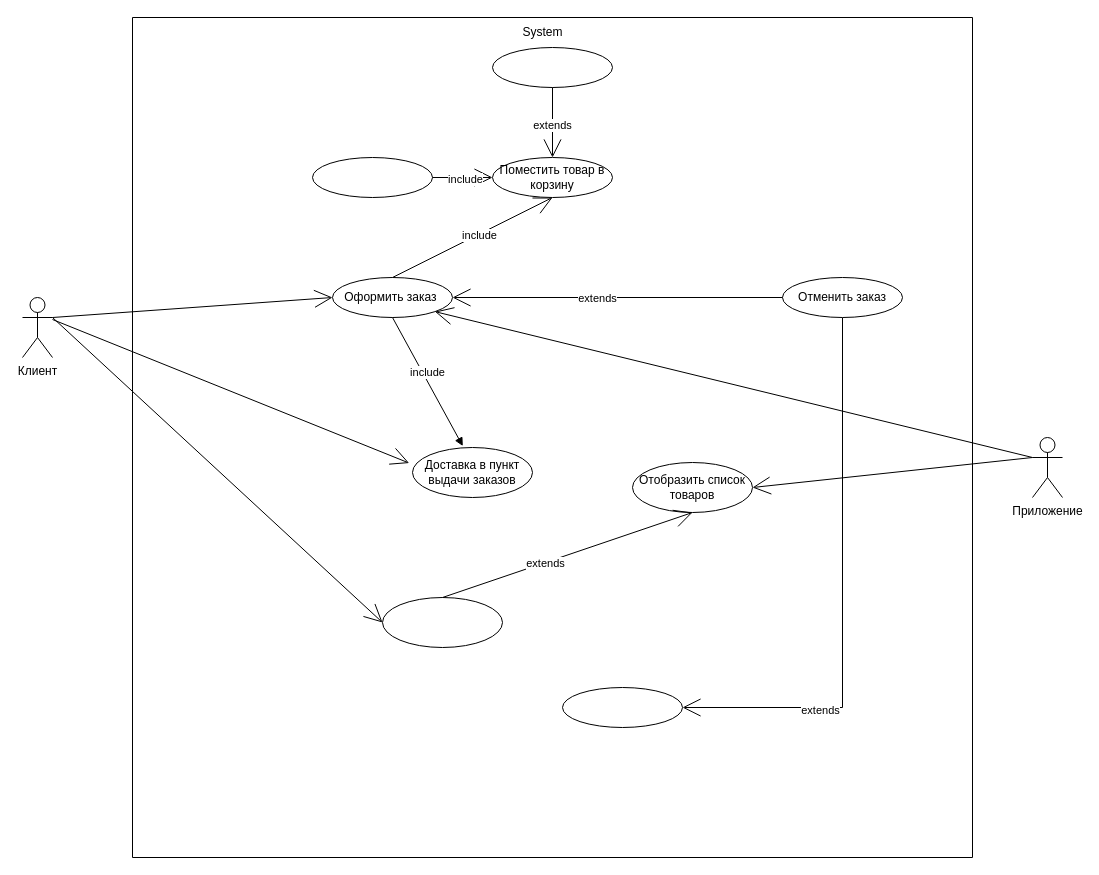
Some shapes in this 1099 by 875 pixel diagram are drawn without their labels. The box of each missing label's shape, as (x1, y1, x2, y2) in pixels:
Выбрать товар: (312, 156, 432, 198)
Закрыть заказ: (562, 686, 682, 728)
Обновить список товаров: (382, 596, 502, 648)
Удалить товар из корзины: (492, 46, 612, 88)
